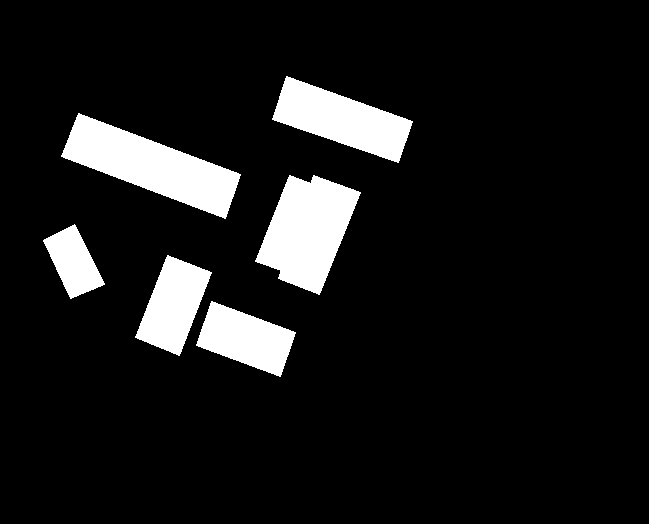parkingspot: (61, 113, 240, 218), (272, 76, 412, 162), (278, 175, 360, 294), (135, 255, 211, 355), (196, 301, 295, 376), (255, 175, 313, 270), (43, 224, 104, 298)
